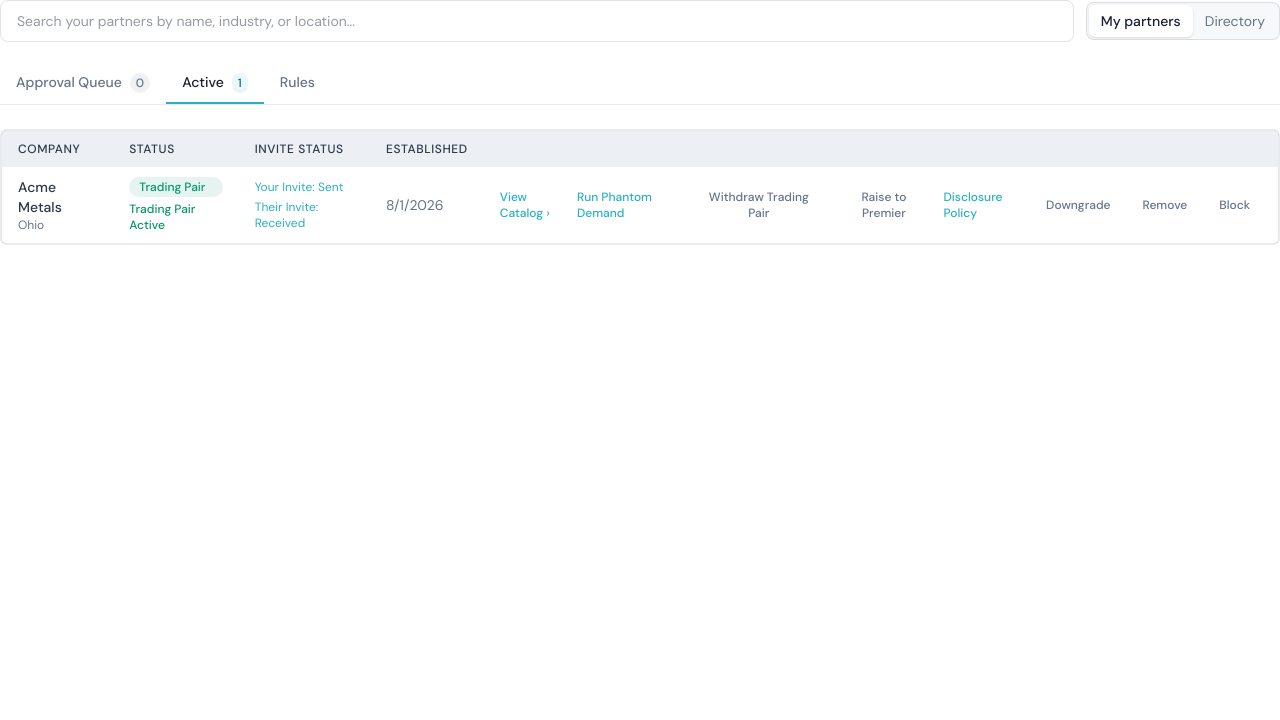
it: PartnersPanel — downgrade (SEC-web-account-1-05) › a 403 keeps the trading pair, shows no success toast, and shows the error
Expected: the text "Acme Metals" is shown, left=18, top=178, right=62, bottom=216
What coordinates should you click on to do the following:
click the button "Downgrade"
I would click on:
 (1078, 205)
Its box is left=1034, top=191, right=1122, bottom=219.
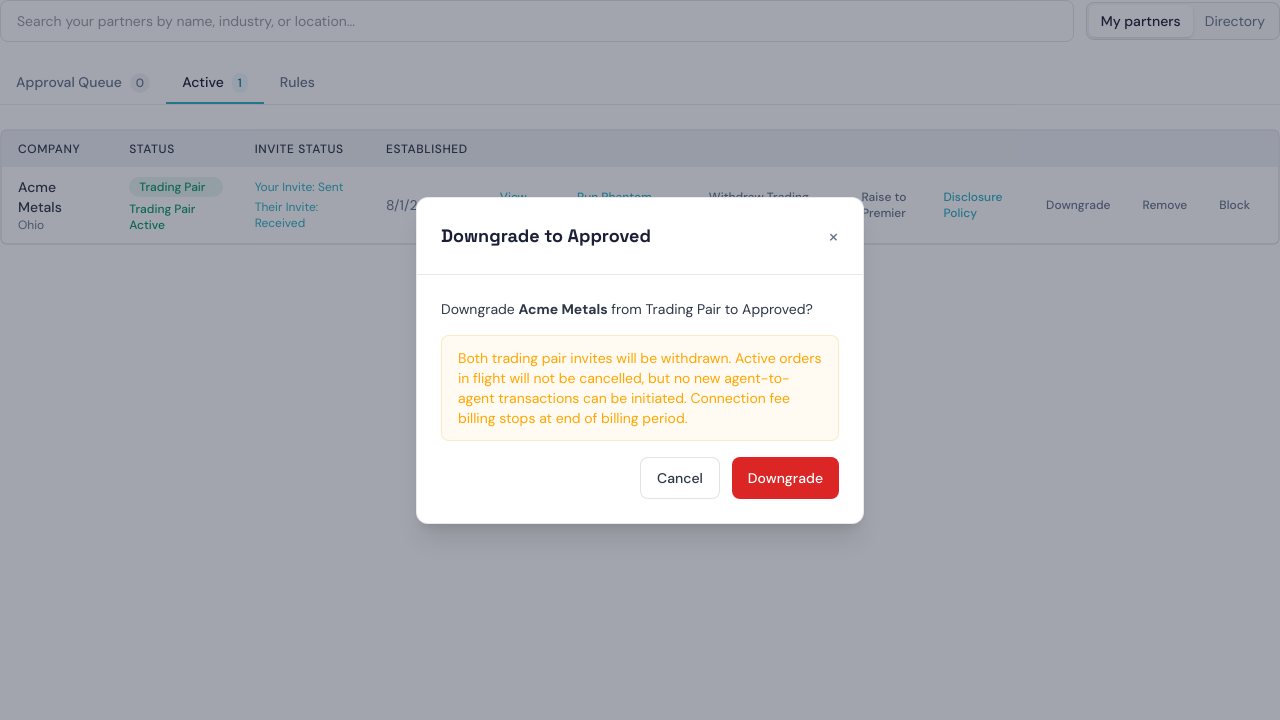
What coordinates should you click on to do the following:
click the button "Downgrade"
I would click on:
 (785, 478)
Its box is left=732, top=456, right=839, bottom=498.
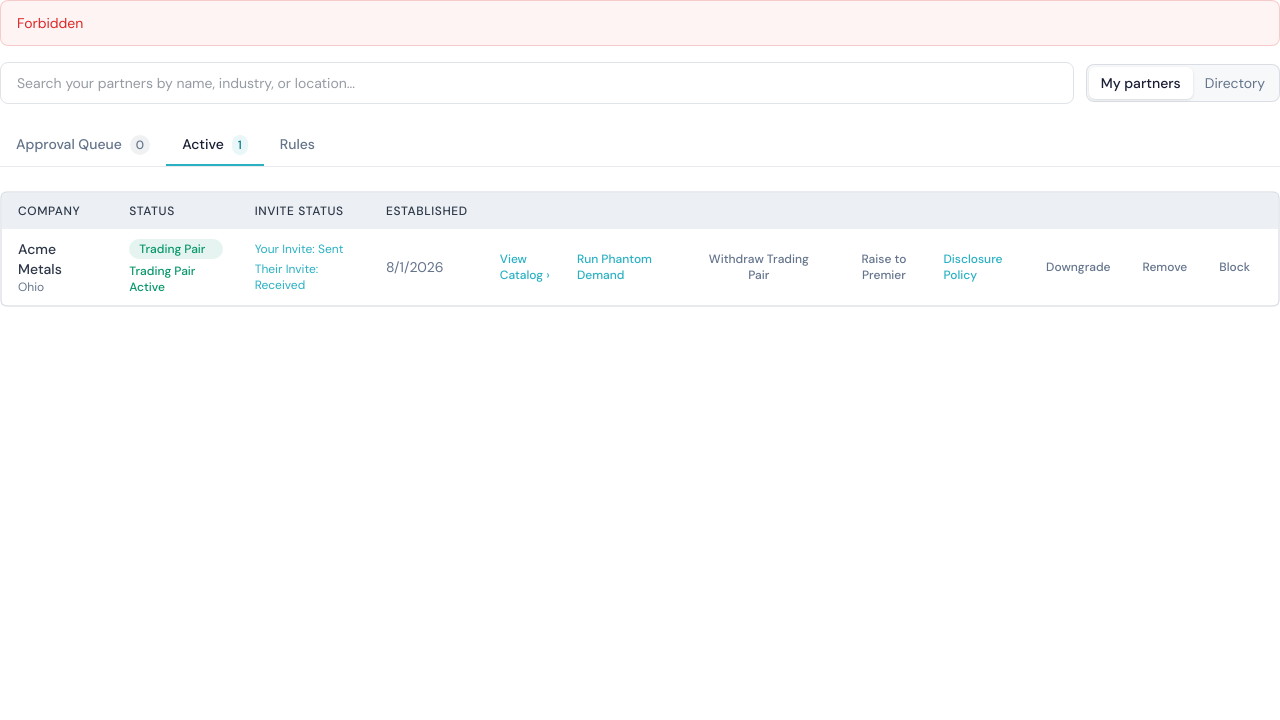
Expected: the button "Downgrade" is shown, left=1034, top=253, right=1122, bottom=281
Result: the message reads "Forbidden" at left=17, top=14, right=83, bottom=32
